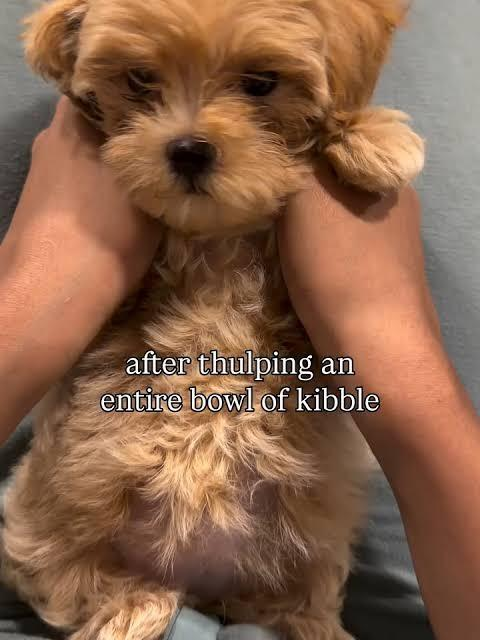puppy-dog: (4, 1, 430, 639)
